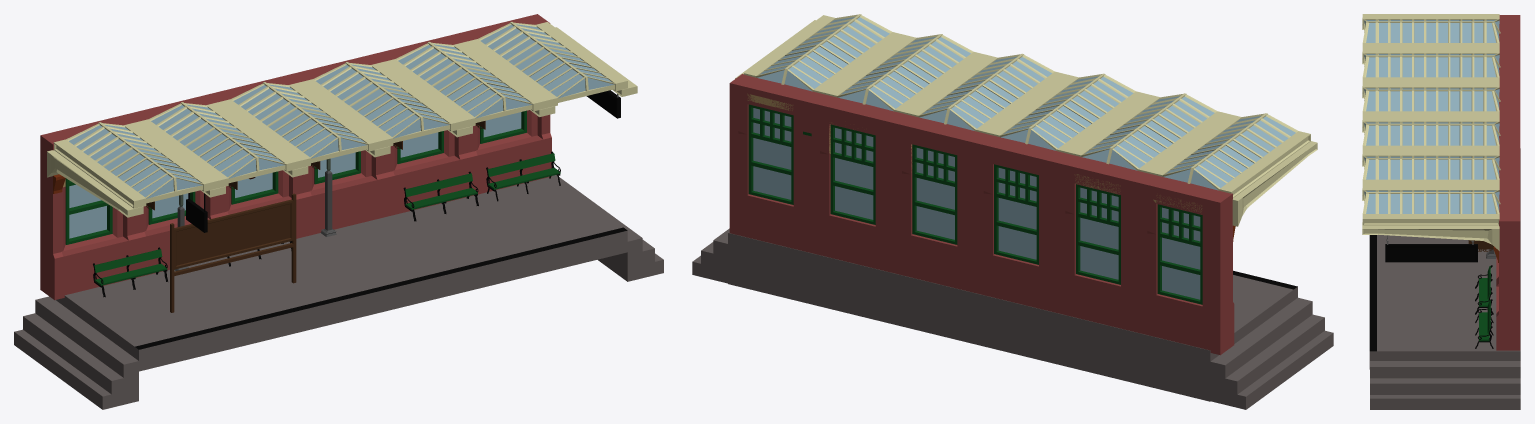
File: Train Station.fbx
3 views of the same model, side by side, from view 1: azimuth 30°, elevation 25°; view 2: azimuth 150°, elevation 25°; view 3: azimuth 270°, elevation 25° (orthographic). The views are drawn at different scales.
Parts seen in each view (by area): view 1: Cube.001, Cube.021, Cube.012, Cube.005, Cube.029, Cube.010, Cube.004, Cube.011, Cube.002, Cube.027; view 2: Cube.012, Cube.021, Cube.001, Cube.005, Cube.010; view 3: Cube.021, Cube.001, Cube.012, Cube.005, Cube.010, Cube.020, Cube.002, Cube.011, Cube.026.
Boxes of the visible parts, x1,y1,x2,y2 form: Cube.001: [56, 175, 627, 371]; Cube.021: [53, 22, 627, 208]; Cube.012: [40, 14, 551, 300]; Cube.005: [14, 175, 663, 409]; Cube.029: [170, 193, 296, 312]; Cube.010: [47, 27, 637, 217]; Cube.004: [93, 247, 167, 297]; Cube.011: [403, 171, 478, 221]; Cube.002: [486, 151, 560, 201]; Cube.027: [320, 158, 336, 236]; Cube.012: [729, 74, 1235, 355]; Cube.021: [744, 14, 1310, 197]; Cube.001: [728, 232, 1297, 401]; Cube.005: [692, 228, 1333, 409]; Cube.010: [735, 20, 1317, 226]; Cube.021: [1362, 14, 1500, 225]; Cube.001: [1369, 148, 1520, 369]; Cube.012: [1493, 15, 1520, 350]; Cube.005: [1370, 361, 1520, 409]; Cube.010: [1362, 18, 1499, 250]; Cube.020: [1385, 244, 1477, 262]; Cube.002: [1475, 299, 1493, 348]; Cube.011: [1475, 265, 1493, 314]; Cube.026: [1468, 240, 1493, 251].
Size of the model in its own units: 7623 by 2822 by 2194.
